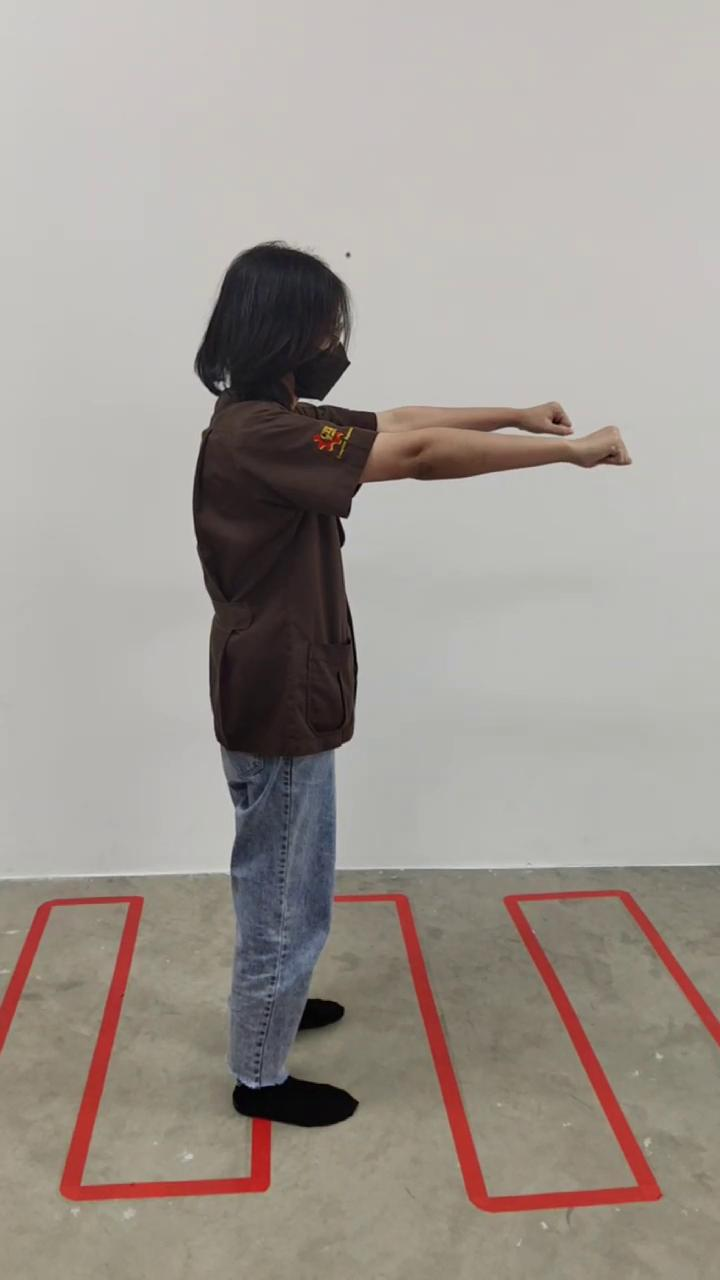squat up: (192, 245, 630, 1130), (193, 245, 630, 1126)
